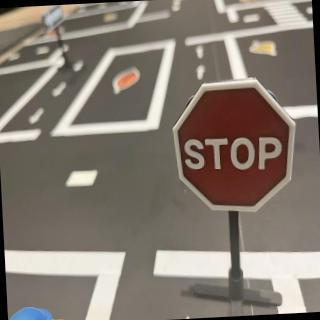duck_specialty: (8, 303, 81, 320), (195, 44, 207, 61)
road_oneway: (26, 105, 49, 126), (50, 79, 72, 100), (193, 62, 210, 86)
sign_oneway_left: (43, 6, 71, 35)
sign_stop: (171, 77, 301, 217)
